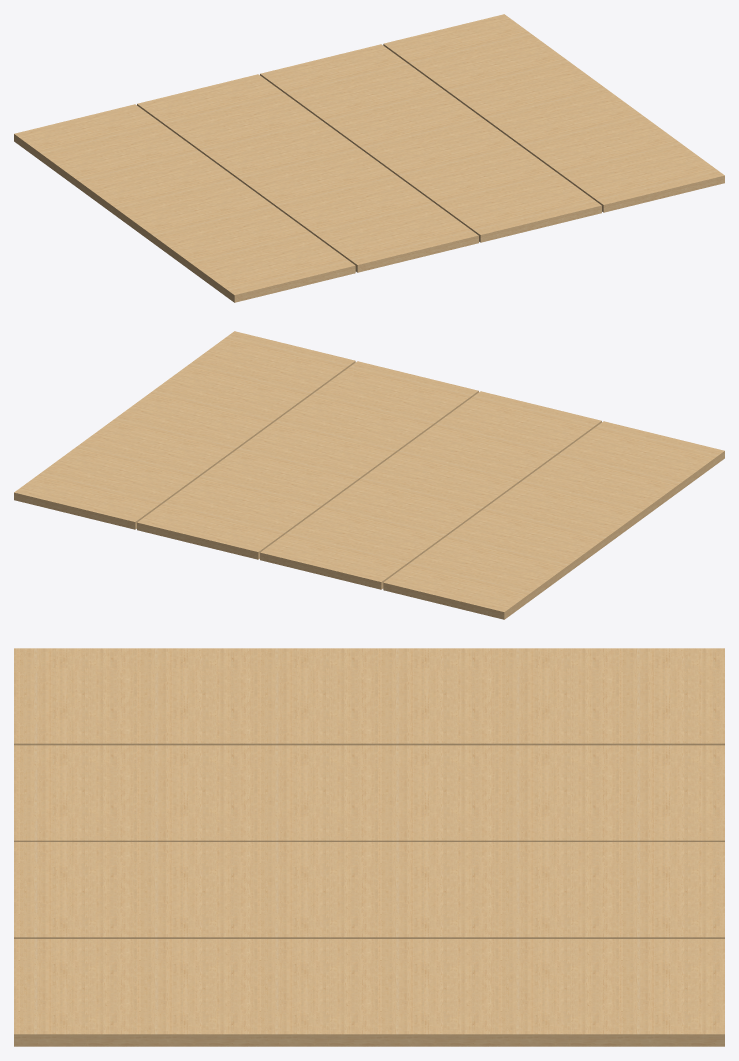
Rendered from Lagi.glb.
The picture shows the model from 3 angles, top to bottom: view 1: azimuth 30°, elevation 25°; view 2: azimuth 150°, elevation 25°; view 3: azimuth 270°, elevation 25°; orthographic projection. The views are drawn at different scales.
Parts seen in each view (by area): view 1: Lae-element_006 (×4); view 2: Lae-element_006 (×4); view 3: Lae-element_006 (×4).
Boxes of the visible parts, x1,y1,x2,y2 form: Lae-element_006 (×4): (14, 14, 724, 302); Lae-element_006 (×4): (14, 331, 724, 619); Lae-element_006 (×4): (14, 648, 724, 1046).
Size of the model in its own units: 15.15 by 0.225 by 11.8.
Materials: 1 (1 with a texture image).
